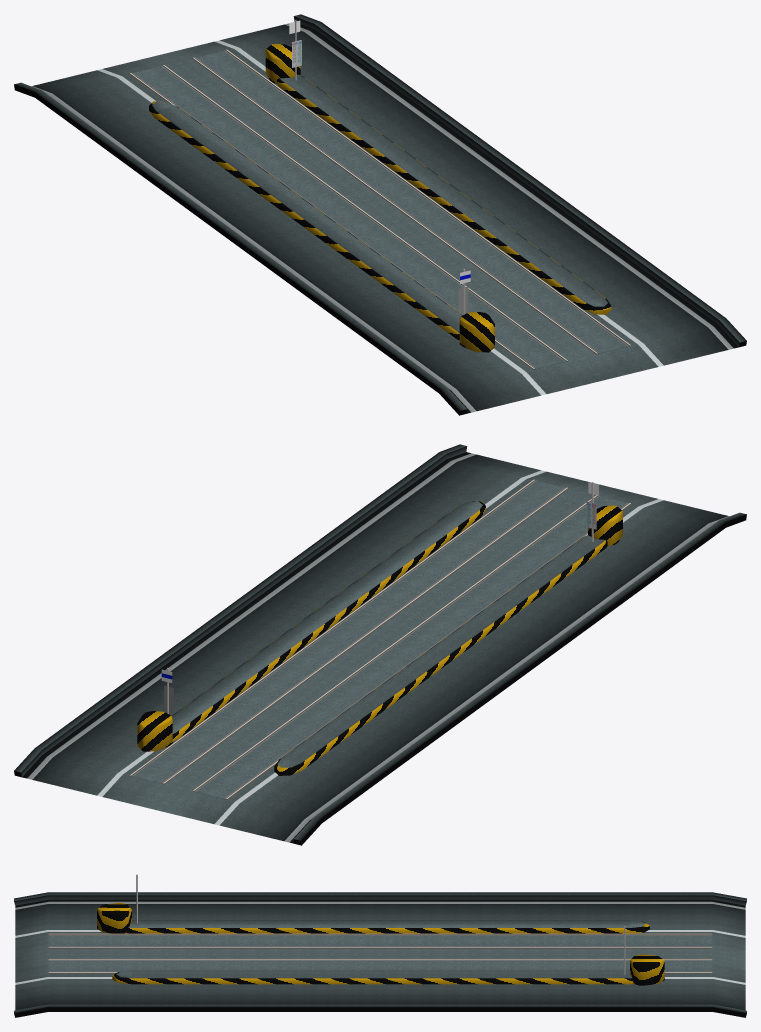
Rendered from K_DENTEI.glb.
3 renders of one model, top to bottom at view 1: azimuth 30°, elevation 25°; view 2: azimuth 150°, elevation 25°; view 3: azimuth 270°, elevation 25°, orthographic. The views are drawn at different scales.
Parts seen in each view (by area): view 1: body, bone7, bone0; view 2: body, bone0, bone7; view 3: body, bone0, bone7.
Boxes of the visible parts, x1,y1,x2,y2 form: body: (14,14,746,415); bone7: (458,268,494,352); bone0: (265,20,301,83); body: (14,444,746,845); bone0: (137,668,173,751); bone7: (586,482,622,545); body: (14,892,746,1017); bone0: (624,926,664,985); bone7: (97,874,137,933).
Size of the model in its own units: 41 by 9.95 by 110.
10 materials, 10 textured.
